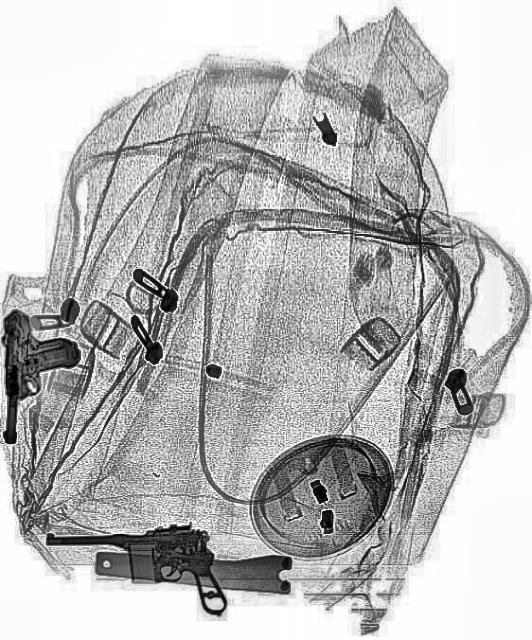Gun: (43, 520, 227, 620), (0, 305, 84, 443)
